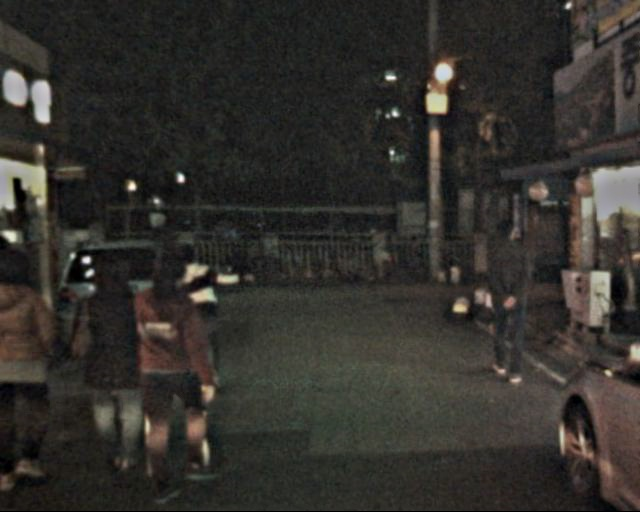person: (120, 246, 214, 502), (71, 239, 161, 479), (1, 243, 67, 494), (473, 211, 535, 388), (175, 236, 231, 396)
